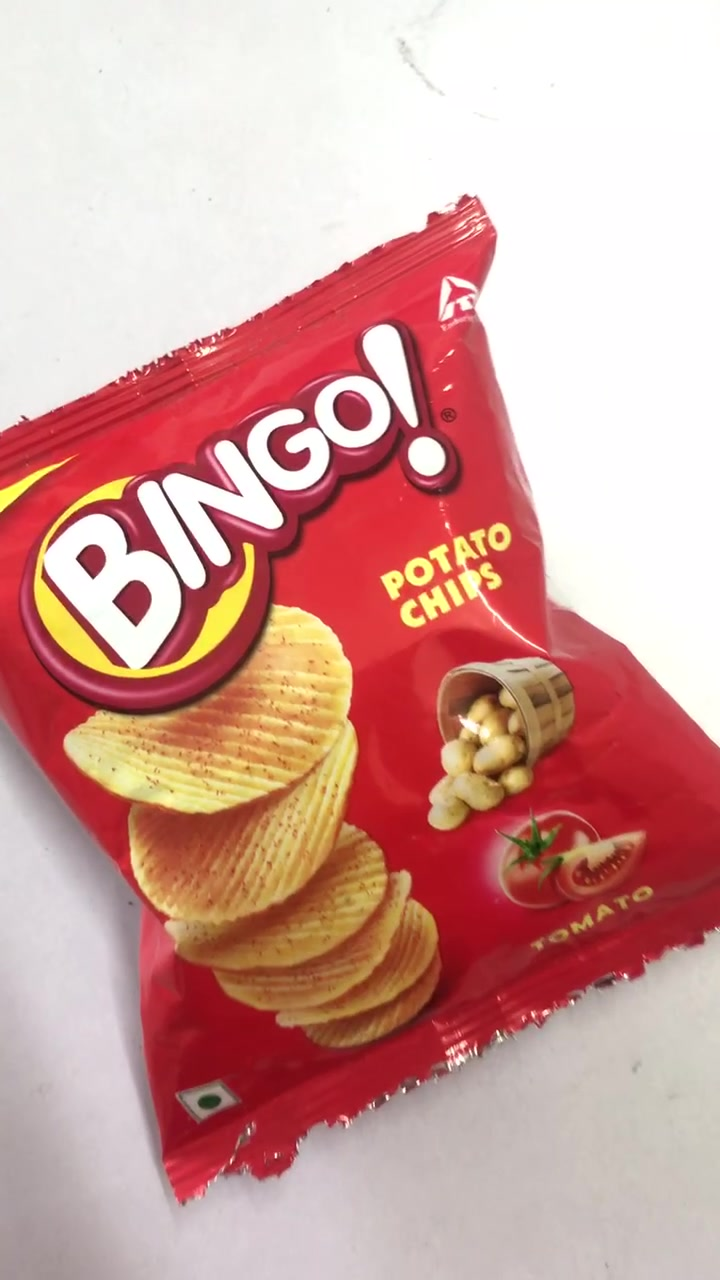Bingo: (13, 330, 709, 1168)
